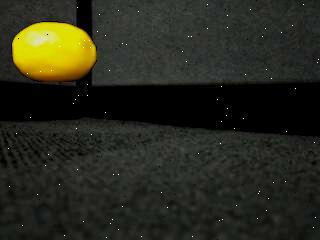Lemon: (11, 21, 100, 84)
